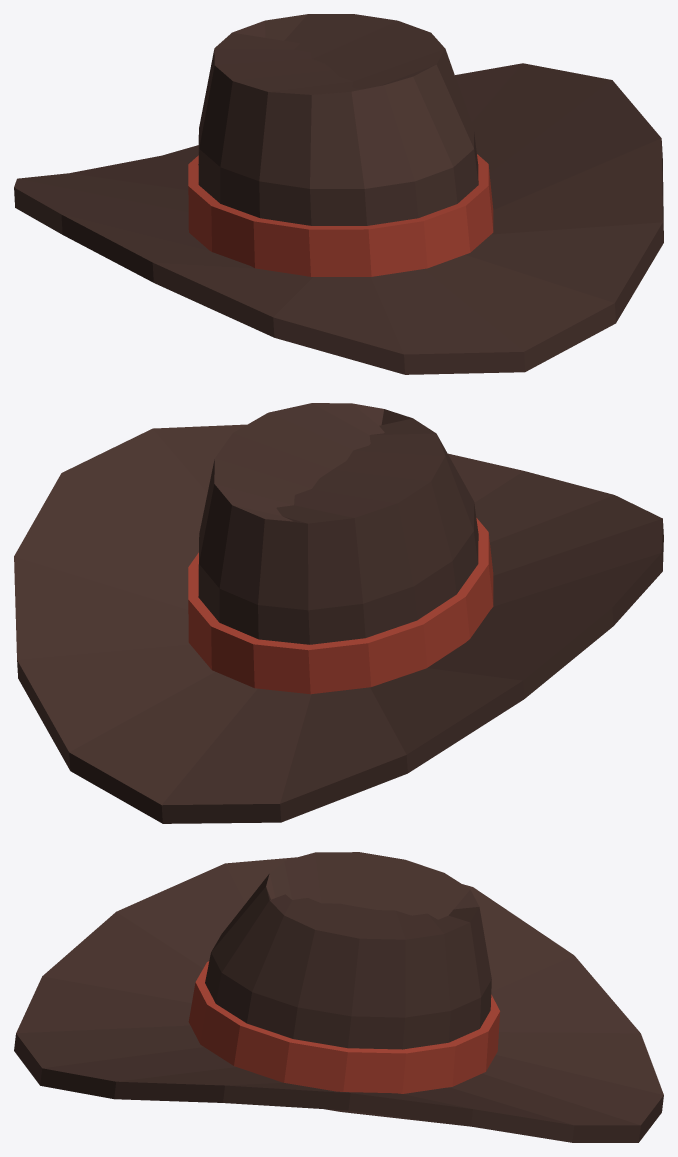
File: SM_Hat_Bandit.fbx
The picture shows the model from 3 angles, top to bottom: view 1: azimuth 30°, elevation 25°; view 2: azimuth 150°, elevation 25°; view 3: azimuth 270°, elevation 25°; orthographic projection. The views are drawn at different scales.
Parts seen in each view (by area): view 1: Prop_Hat_Bandit; view 2: Prop_Hat_Bandit; view 3: Prop_Hat_Bandit.
Boxes of the visible parts, x1=… form: Prop_Hat_Bandit: x1=14, y1=14, x2=663, y2=374; Prop_Hat_Bandit: x1=14, y1=403, x2=663, y2=823; Prop_Hat_Bandit: x1=14, y1=852, x2=663, y2=1142.
Bounding box in the file's own units: 47.56 × 54.34 × 20.86.
